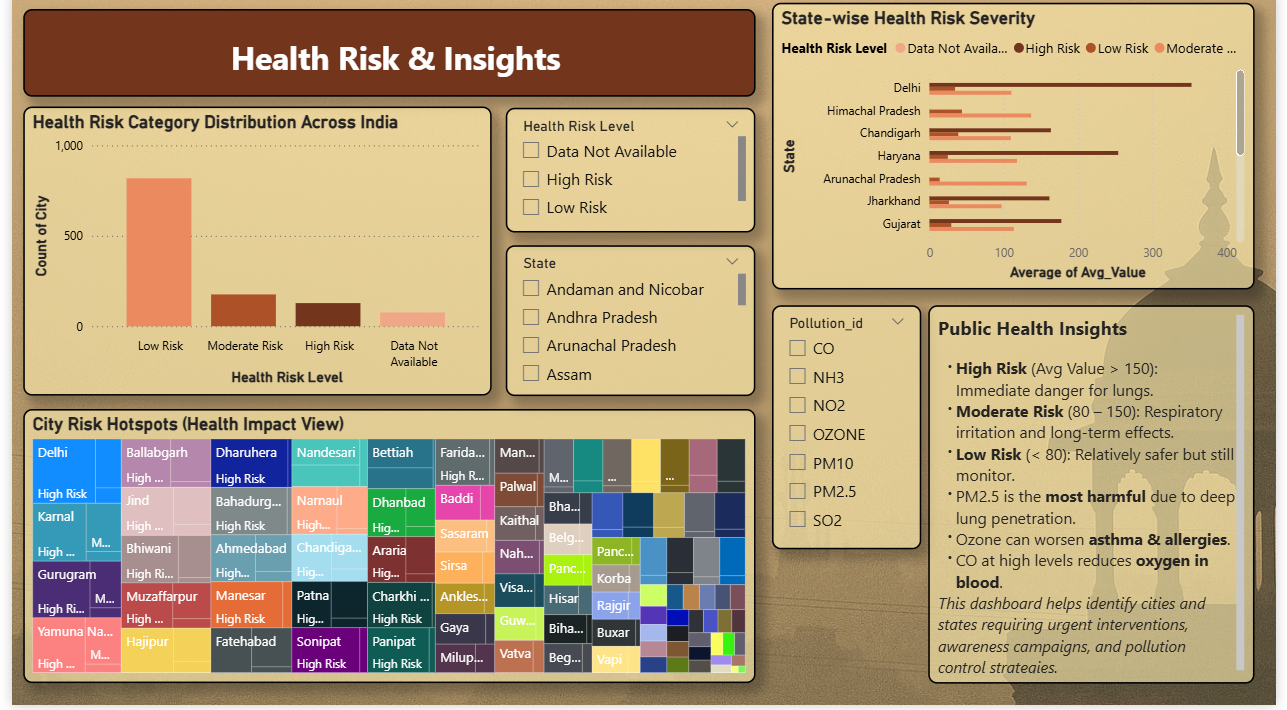

The dashboard page shown, as its layout file describes it:
{"tool":"powerbi","page":{"name":"Page 3","canvas":[1280,720],"ordinal":2},"visuals":[{"type":"textbox","box":[10,0,280,280],"z":0},{"type":"textbox","box":[10.7,0,1269,73],"z":1000},{"type":"clusteredColumnChart","title":"Health Risk Category Distribution Across India","fields":{"Category":["3b01bcb8-0b14-4abf-b6f2-c1bfd384ba69.Health Risk Level"],"Y":["CountNonNull(3b01bcb8-0b14-4abf-b6f2-c1bfd384ba69.City)"]},"box":[0,129.6,485.2,279.6],"z":2000},{"type":"clusteredBarChart","title":"State-wise Health Risk Severity","fields":{"Category":["3b01bcb8-0b14-4abf-b6f2-c1bfd384ba69.State"],"Series":["3b01bcb8-0b14-4abf-b6f2-c1bfd384ba69.Health Risk Level"],"Y":["Avg(3b01bcb8-0b14-4abf-b6f2-c1bfd384ba69.Avg_Value)"]},"box":[485.2,129.6,453.7,290.7],"z":3000},{"type":"treemap","title":"City Risk Hotspots (Health Impact View)","fields":{"Details":["3b01bcb8-0b14-4abf-b6f2-c1bfd384ba69.Health Risk Level"],"Group":["3b01bcb8-0b14-4abf-b6f2-c1bfd384ba69.City"],"Values":["Avg(3b01bcb8-0b14-4abf-b6f2-c1bfd384ba69.Avg_Value)"]},"box":[11.1,420.4,775.9,300],"z":4000},{"type":"slicer","fields":{"Values":["3b01bcb8-0b14-4abf-b6f2-c1bfd384ba69.State"]},"box":[981.5,129.6,144.4,229.6],"z":5000},{"type":"slicer","fields":{"Values":["3b01bcb8-0b14-4abf-b6f2-c1bfd384ba69.Pollution_id"]},"box":[1125,130,155,229],"z":6000},{"type":"slicer","fields":{"Values":["3b01bcb8-0b14-4abf-b6f2-c1bfd384ba69.Health Risk Level"]},"box":[961.1,359.3,318.5,111.1],"z":7000},{"type":"textbox","box":[787,470.4,492.6,250],"z":8000}]}

Visuals, with their boxes in screenshot pixels (x1, y1, x2, y2), scaled from the page's 1280x720 canvas onto the 1287x710 screenshot:
textbox: bbox=[10, 0, 292, 276]
textbox: bbox=[11, 0, 1286, 72]
"Health Risk Category Distribution Across India" clusteredColumnChart: bbox=[0, 128, 488, 404]
"State-wise Health Risk Severity" clusteredBarChart: bbox=[488, 128, 944, 414]
"City Risk Hotspots (Health Impact View)" treemap: bbox=[11, 415, 791, 709]
slicer - 3b01bcb8-0b14-4abf-b6f2-c1bfd384ba69.State: bbox=[987, 128, 1132, 354]
slicer - 3b01bcb8-0b14-4abf-b6f2-c1bfd384ba69.Pollution_id: bbox=[1131, 128, 1286, 354]
slicer - 3b01bcb8-0b14-4abf-b6f2-c1bfd384ba69.Health Risk Level: bbox=[966, 354, 1286, 464]
textbox: bbox=[791, 464, 1286, 709]
